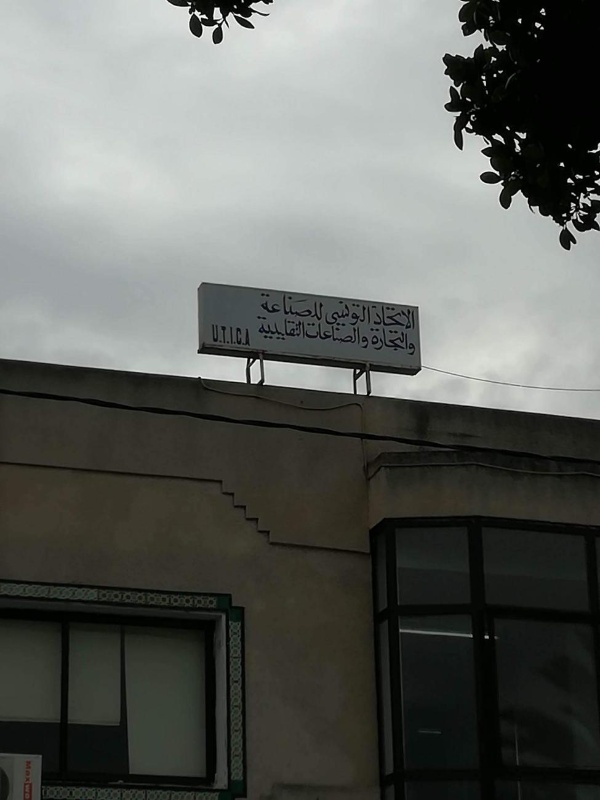text: (257, 289, 272, 322), (273, 289, 288, 322), (289, 289, 304, 322), (305, 289, 320, 322), (401, 303, 417, 330), (337, 300, 352, 328), (353, 300, 368, 328), (385, 303, 400, 330), (257, 315, 272, 341), (273, 315, 288, 341), (289, 315, 304, 341), (385, 327, 400, 353), (225, 323, 240, 348), (370, 327, 384, 353), (305, 321, 320, 345), (321, 321, 336, 345), (337, 321, 352, 345), (211, 323, 224, 348), (372, 303, 384, 330), (325, 300, 336, 328), (241, 323, 252, 348), (25, 761, 32, 799), (401, 327, 410, 353), (353, 321, 362, 345), (321, 289, 325, 322), (409, 342, 416, 358), (361, 335, 368, 350), (369, 300, 372, 328), (305, 315, 306, 341), (369, 335, 370, 350)
